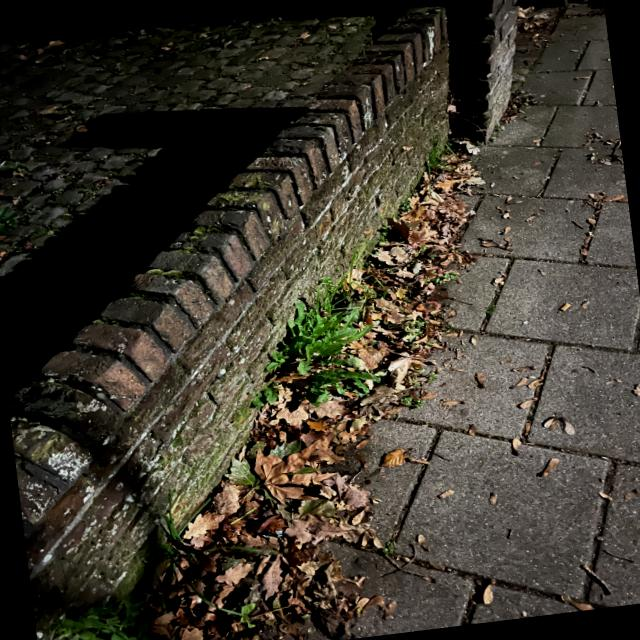leaves: (140, 138, 482, 639)
pavement: (6, 0, 639, 635)
plants: (247, 280, 382, 408), (485, 305, 494, 315)
weedling: (381, 542, 392, 556)
